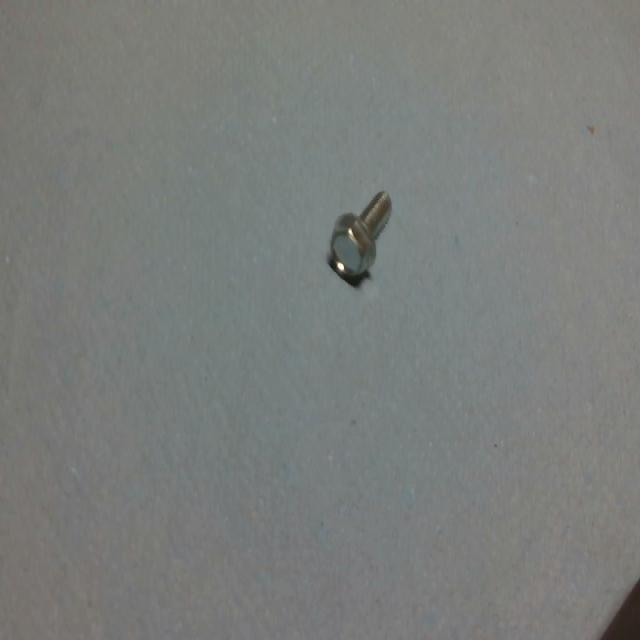Bolt: (330, 188, 392, 284)
